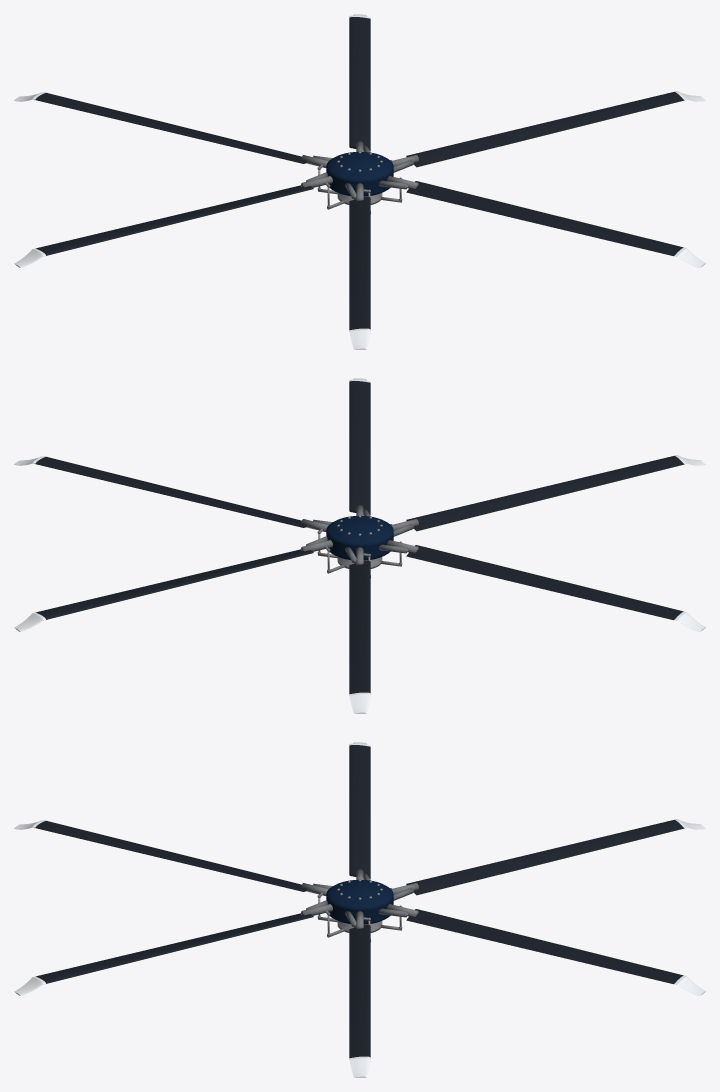
Rendered from rotor.glb.
The picture shows the model from 3 angles, top to bottom: view 1: azimuth 30°, elevation 25°; view 2: azimuth 150°, elevation 25°; view 3: azimuth 270°, elevation 25°; orthographic projection.
Parts seen in each view (by area): view 1: rotor; view 2: rotor; view 3: rotor.
Boxes of the visible parts, bbox=[...] form: rotor: bbox=[14, 14, 705, 349]; rotor: bbox=[14, 378, 705, 713]; rotor: bbox=[14, 742, 705, 1077].
Bounding box in the file's own units: 10.76 × 0.57 × 9.4.
